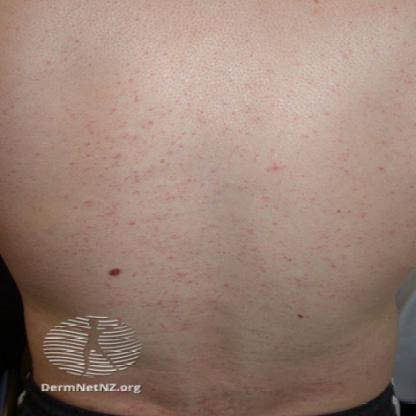Chicken Skin: (76, 48, 233, 268)
